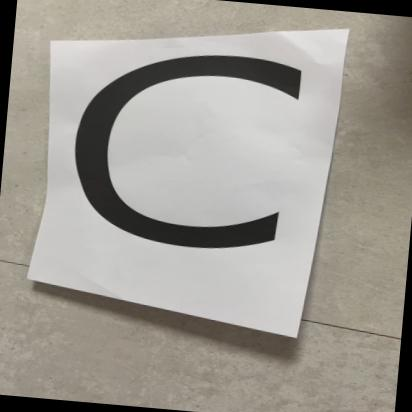seat: (26, 37, 358, 338)
